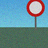sign: (26, 0, 44, 31)
